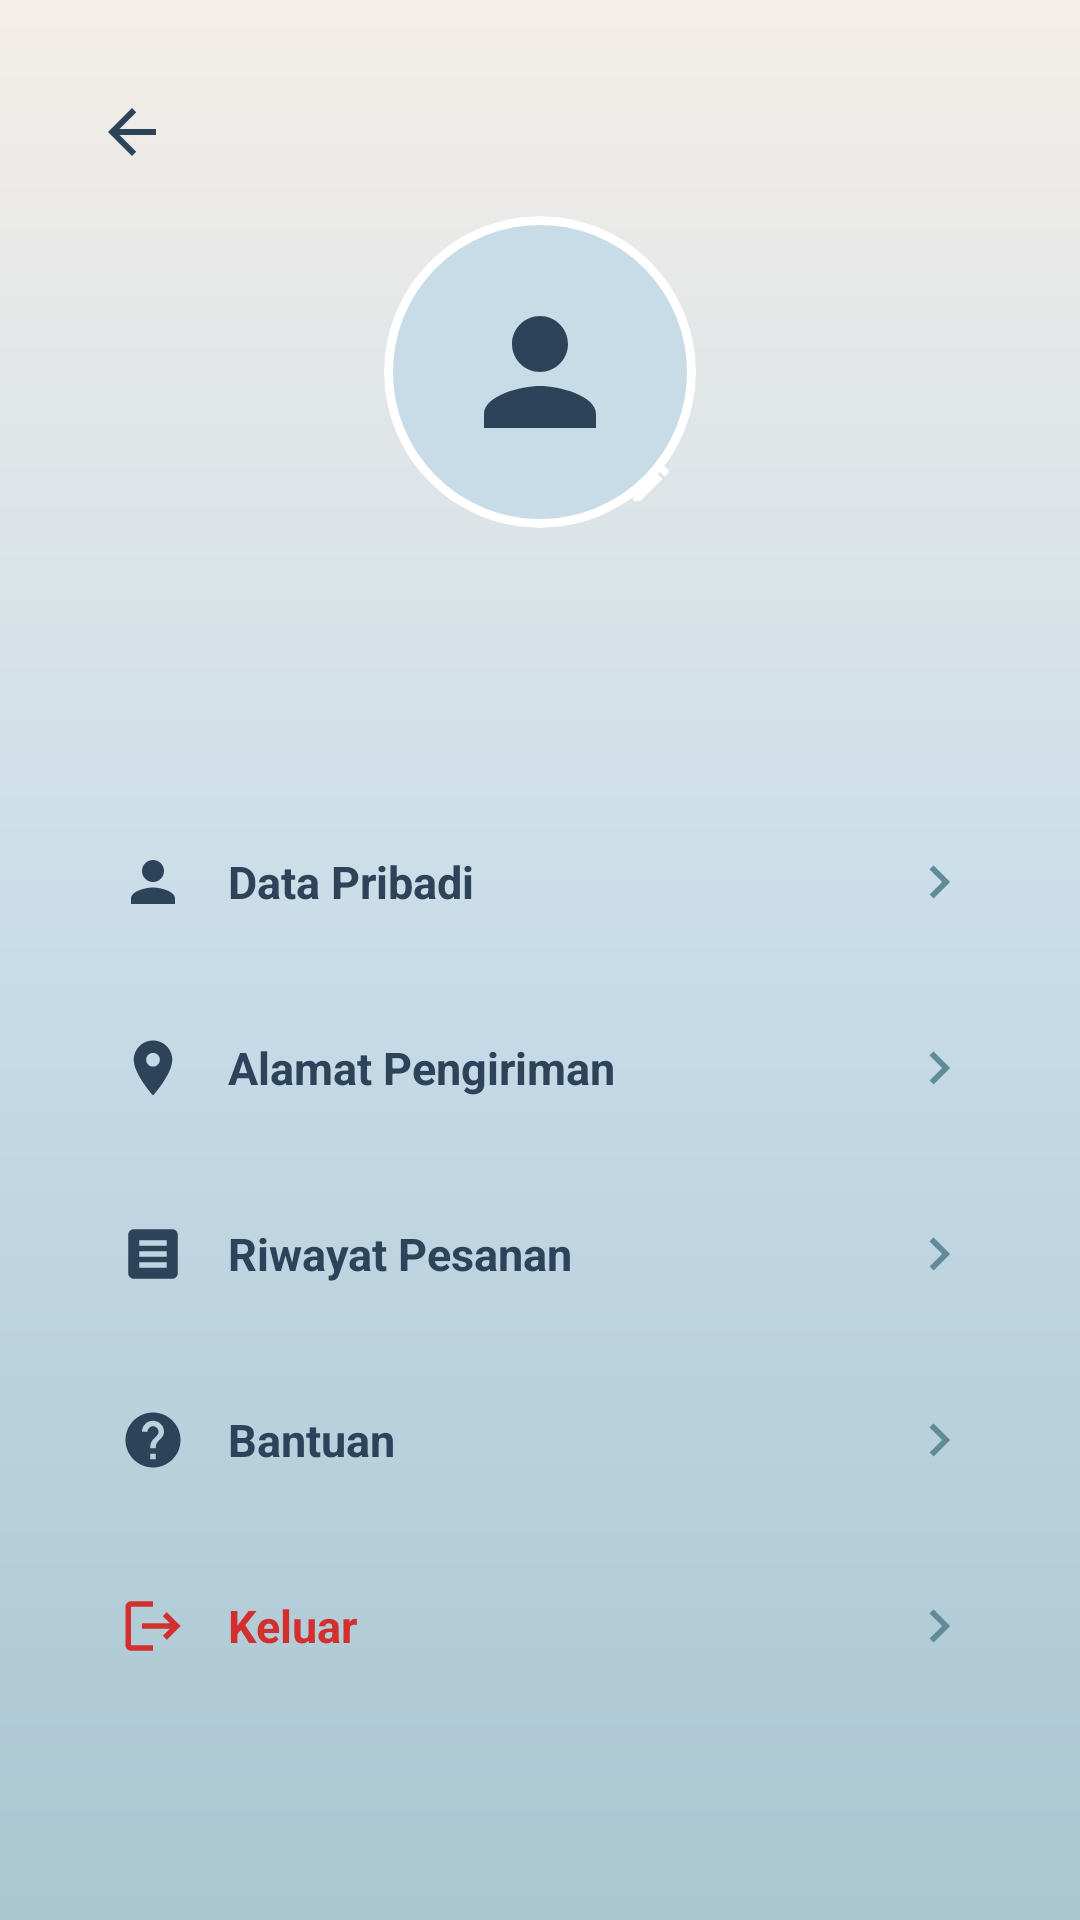

Point at icon controls on the screen. Image size 1080w x 1920h, points as (x=x, y=y).
chevron: (x=939, y=882), (x=939, y=1068), (x=940, y=1253), (x=940, y=1439), (x=940, y=1625)
help: (x=153, y=1440)
Kembali: (x=132, y=132)
location: (x=153, y=1067)
person: (x=153, y=882)
